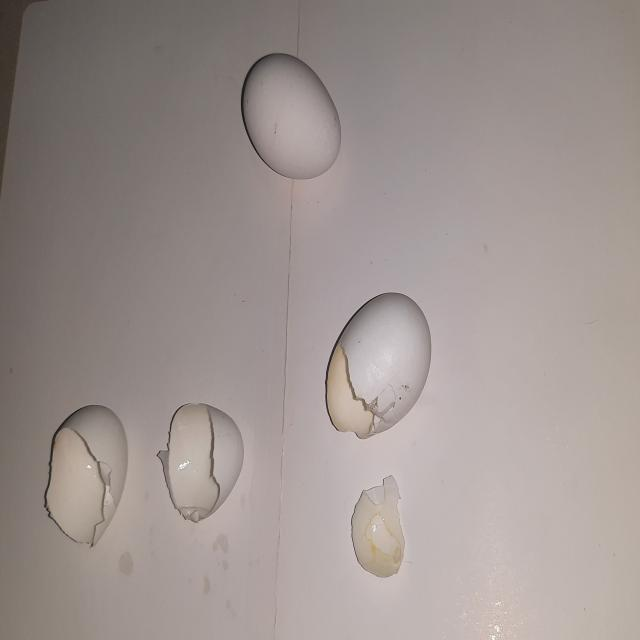egg shell: (318, 287, 436, 447), (238, 46, 344, 185), (40, 398, 134, 552), (155, 394, 246, 532), (347, 467, 412, 581)
